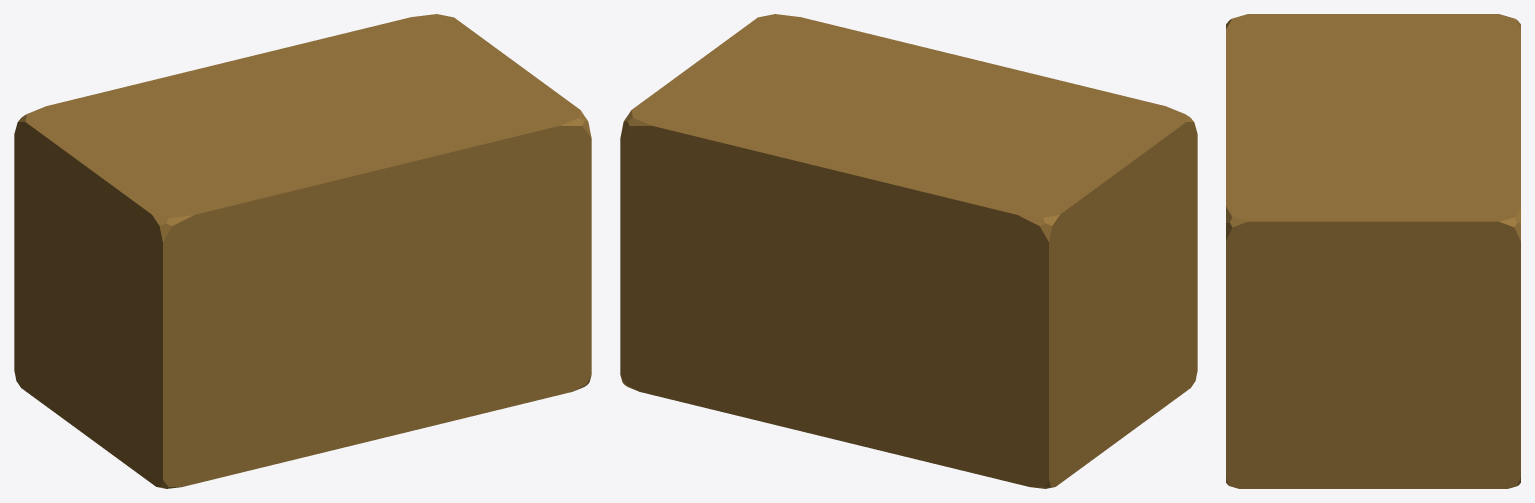
File: carton box.fbx
3 views of the same model, side by side, from view 1: azimuth 30°, elevation 25°; view 2: azimuth 150°, elevation 25°; view 3: azimuth 270°, elevation 25° (orthographic).
Parts seen in each view (by area): view 1: mail carton box; view 2: mail carton box; view 3: mail carton box.
Boxes of the visible parts, x1,y1,x2,y2 form: mail carton box: (14, 14, 591, 488); mail carton box: (620, 14, 1197, 488); mail carton box: (1226, 14, 1520, 488).
Size of the model in its own units: 50 by 30 by 30.
